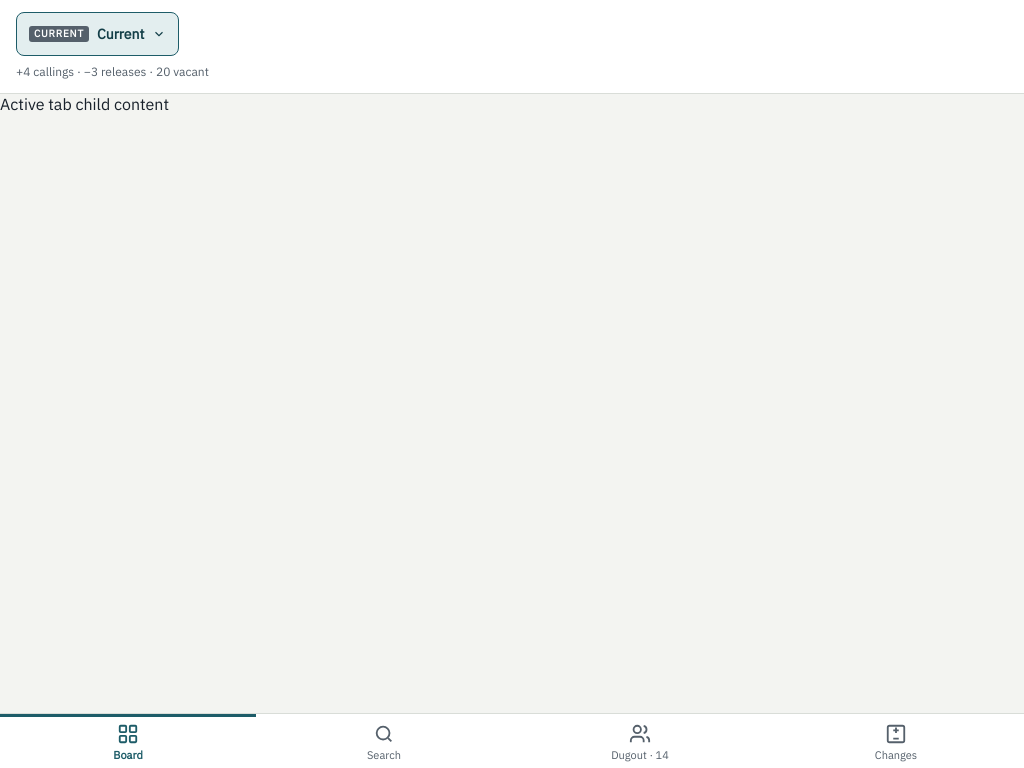
it: PhoneShell › no proposals shows the empty text
The image size is (1024, 768).
Click the button with aria-label "Switch board, current board Current" at (98, 34), box [16,12,179,56]
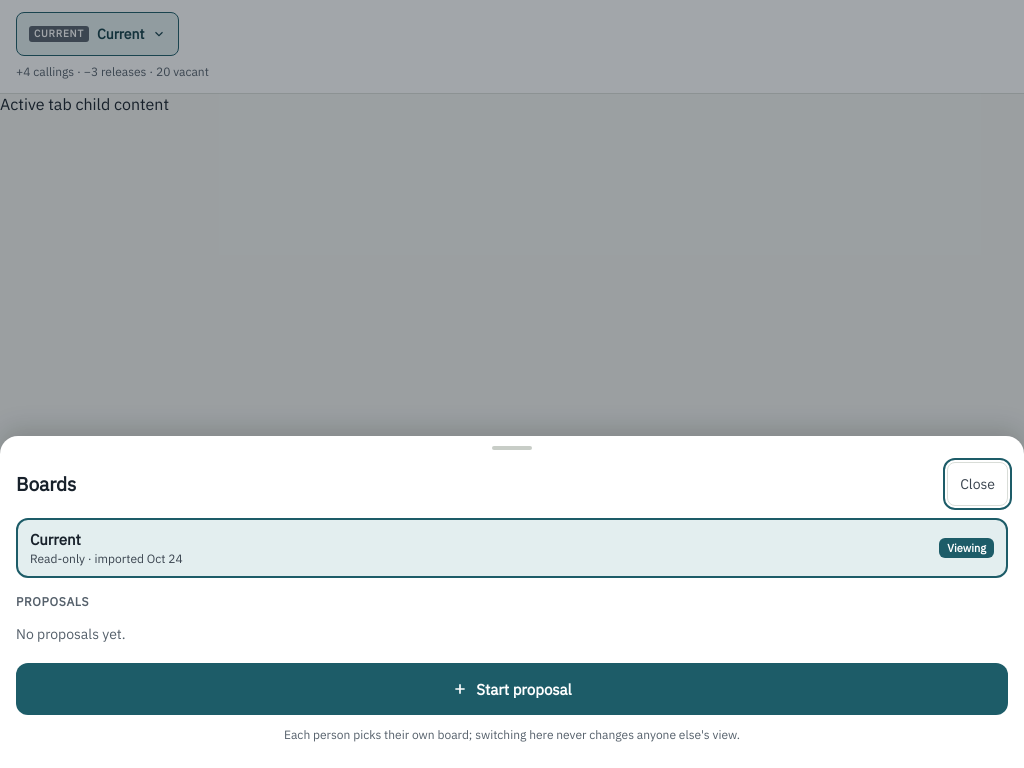
Now the text "No proposals yet." is shown, box [16,625,126,643]
